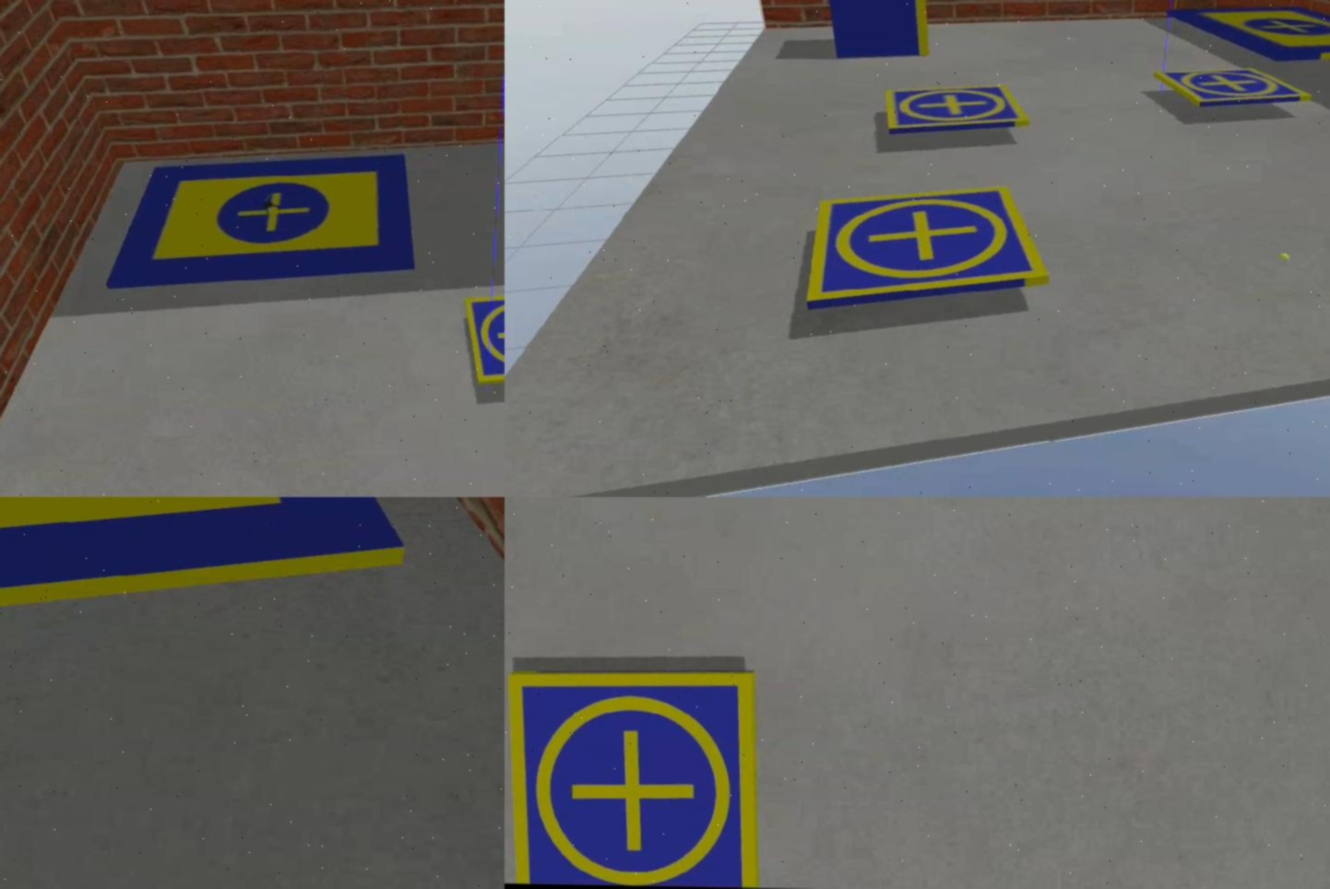large_base: (1, 498, 413, 646), (114, 154, 421, 293), (1165, 4, 1330, 65)
small_base: (507, 664, 760, 889), (807, 185, 1051, 319), (883, 83, 1032, 136), (1149, 66, 1311, 113), (469, 295, 505, 391)
